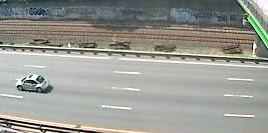car: (15, 72, 51, 94)
